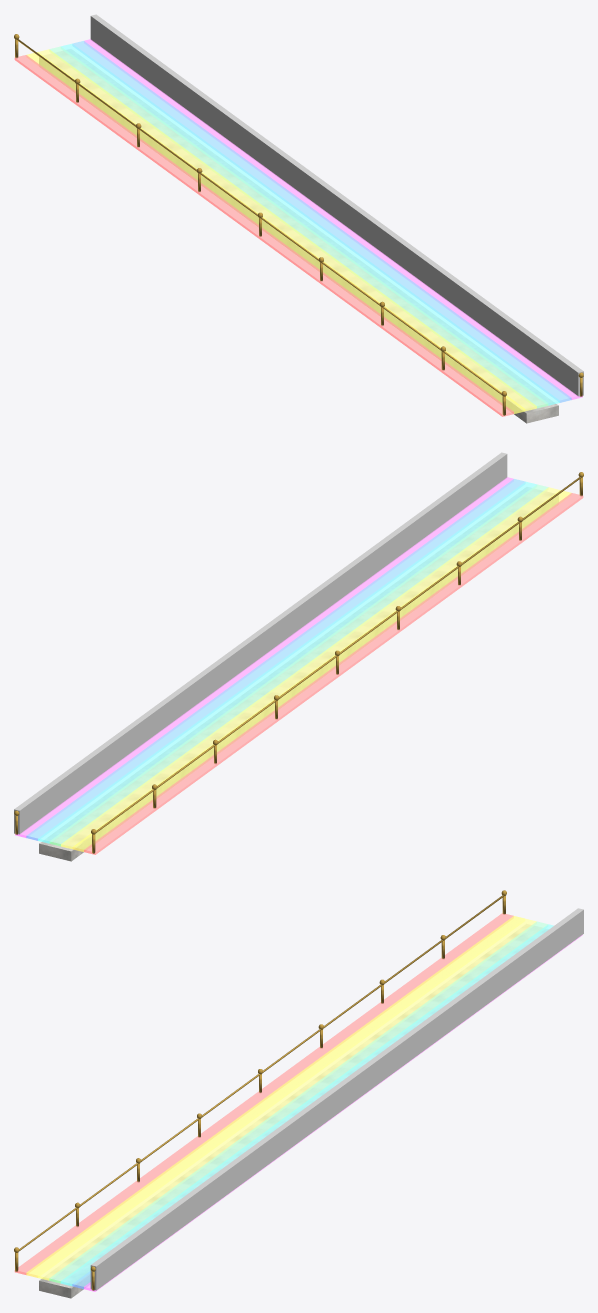
The model's file is rainbow_bridge.glb.
3 renders of one model, top to bottom at view 1: azimuth 30°, elevation 25°; view 2: azimuth 150°, elevation 25°; view 3: azimuth 330°, elevation 25°, orthographic.
Visible parts, largest first — view 1: Keel, Rail-convcolonly.001, Band0, Band3, Band5, Band4, Band2, Band1, Band6, Posts; view 2: Keel, Rail-convcolonly.001, Band0, Band3, Band5, Band4, Band2, Band1, Band6, Posts; view 3: Rail-convcolonly.001, Keel, Band2, Band3, Band1, Band0, Band4, Posts, Band6.
Boxes of the visible parts, left/top/right/bottom form: Keel: left=39, top=49, right=558, bottom=423; Rail-convcolonly.001: left=90, top=14, right=583, bottom=396; Band0: left=14, top=55, right=513, bottom=416; Band3: left=49, top=46, right=548, bottom=408; Band5: left=72, top=41, right=571, bottom=402; Band4: left=61, top=43, right=559, bottom=405; Band2: left=38, top=49, right=536, bottom=411; Band1: left=26, top=52, right=525, bottom=413; Band6: left=84, top=39, right=582, bottom=399; Posts: left=14, top=34, right=583, bottom=415; Keel: left=39, top=487, right=558, bottom=861; Rail-convcolonly.001: left=14, top=452, right=507, bottom=834; Band0: left=84, top=493, right=583, bottom=854; Band3: left=49, top=484, right=548, bottom=846; Band5: left=26, top=479, right=525, bottom=840; Band4: left=38, top=481, right=536, bottom=843; Band2: left=61, top=487, right=559, bottom=849; Band1: left=72, top=490, right=571, bottom=851; Band6: left=15, top=477, right=513, bottom=837; Posts: left=14, top=472, right=583, bottom=853; Rail-convcolonly.001: left=90, top=908, right=583, bottom=1290; Keel: left=39, top=924, right=548, bottom=1298; Band2: left=37, top=918, right=536, bottom=1280; Band3: left=49, top=921, right=547, bottom=1283; Band1: left=26, top=916, right=524, bottom=1277; Band0: left=14, top=913, right=513, bottom=1274; Band4: left=60, top=924, right=553, bottom=1286; Posts: left=14, top=890, right=506, bottom=1290; Band6: left=84, top=934, right=582, bottom=1291.
Size of what is drawn, in the model's own units: 4.27 by 1.9 by 44.25.
9 materials, 2 textured.
